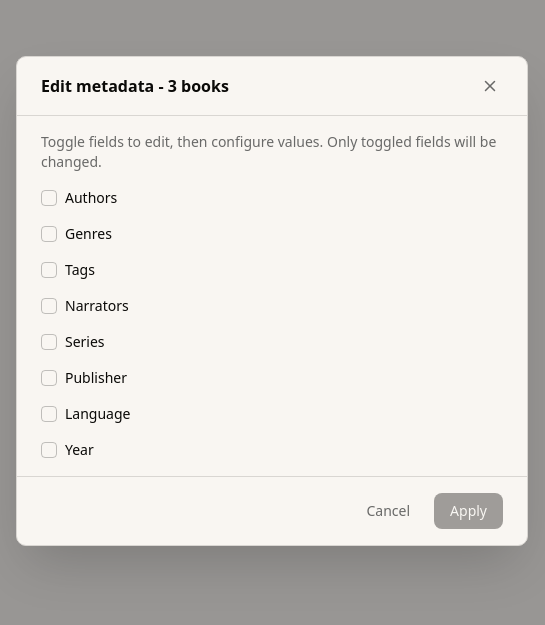
Test: BulkEditMetadataDialog › field toggling › shows mode buttons (Add/Remove/Replace/Clear) when array field is enabled
The width and height of the screenshot is (545, 625).
Click the button "Authors" at (91,198), box [41, 188, 503, 208]
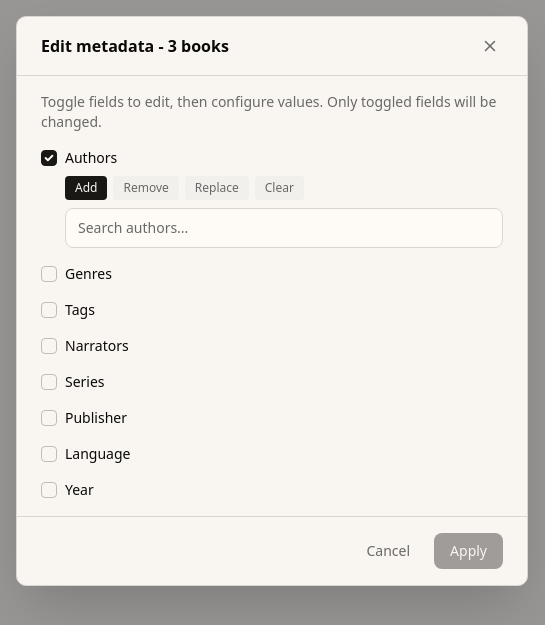
Now the text "Add" is shown, box [65, 176, 107, 200]
Now the text "Remove" is shown, box [113, 176, 179, 200]
Now the text "Replace" is shown, box [185, 176, 249, 200]
